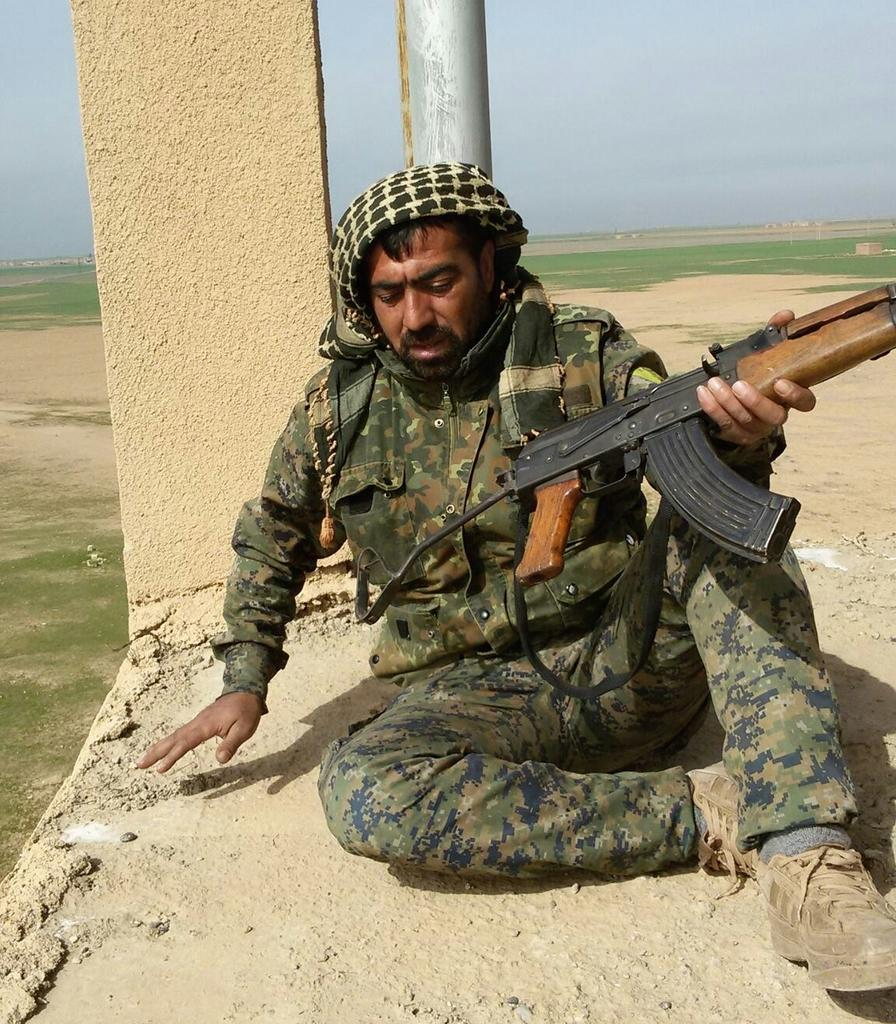Rifle: (439, 287, 891, 594)
